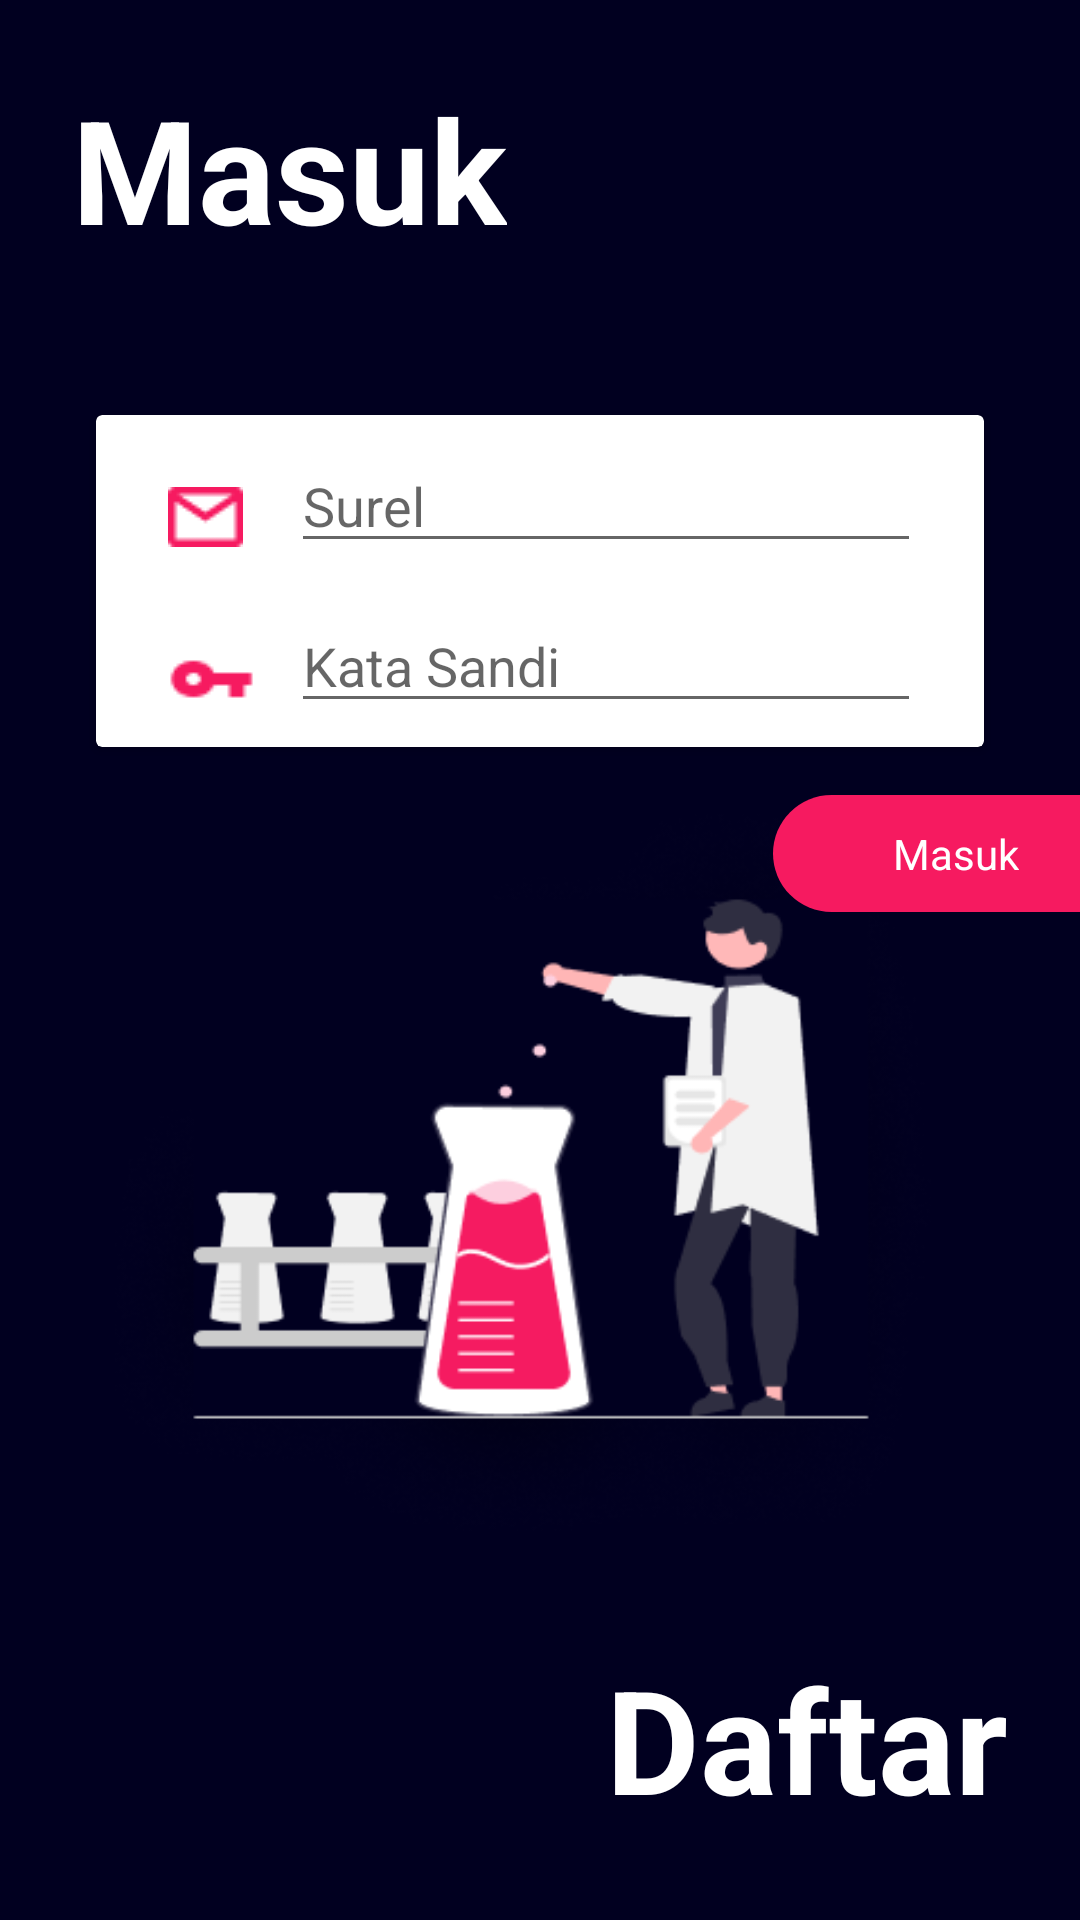

Locate icon controls on the screen. Image size 1080px x 1920px, boxes as (x1, y1, x2, y2).
email: (168, 487, 243, 547)
password: (170, 660, 253, 698)
